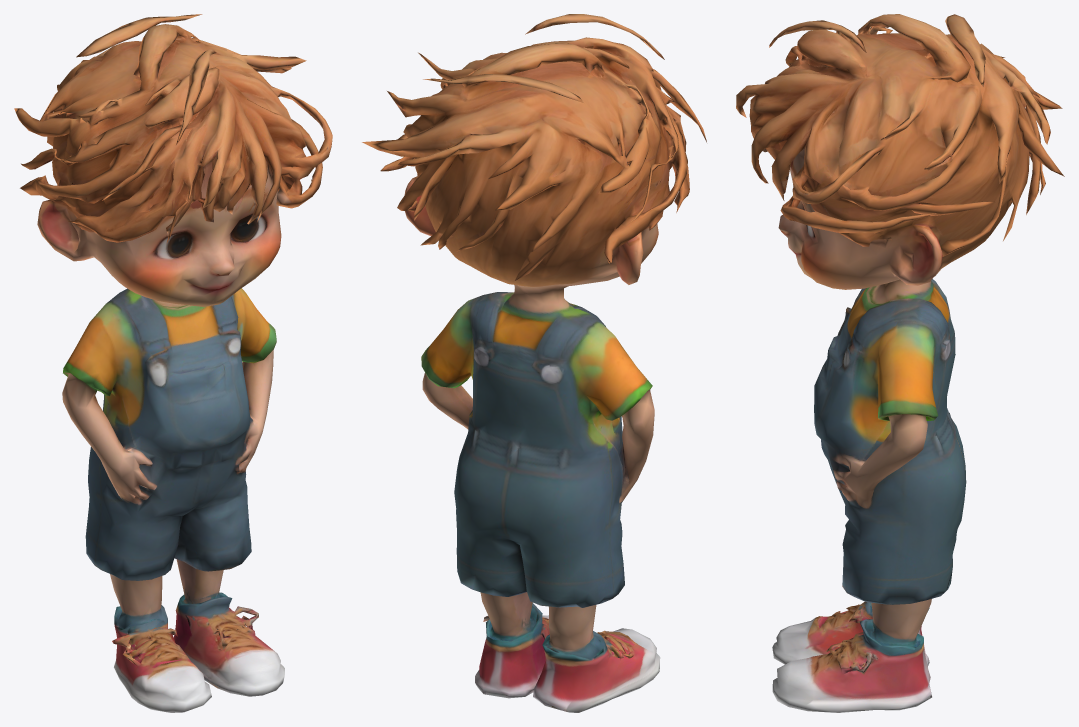
The model's file is human_model.glb.
3 renders of one model, left to right at view 1: azimuth 30°, elevation 25°; view 2: azimuth 150°, elevation 25°; view 3: azimuth 270°, elevation 25°, orthographic. The views are drawn at different scales.
Bounding box in the file's own units: 0.8676 × 2 × 0.9031.
Materials: 1 (1 with a texture image).
